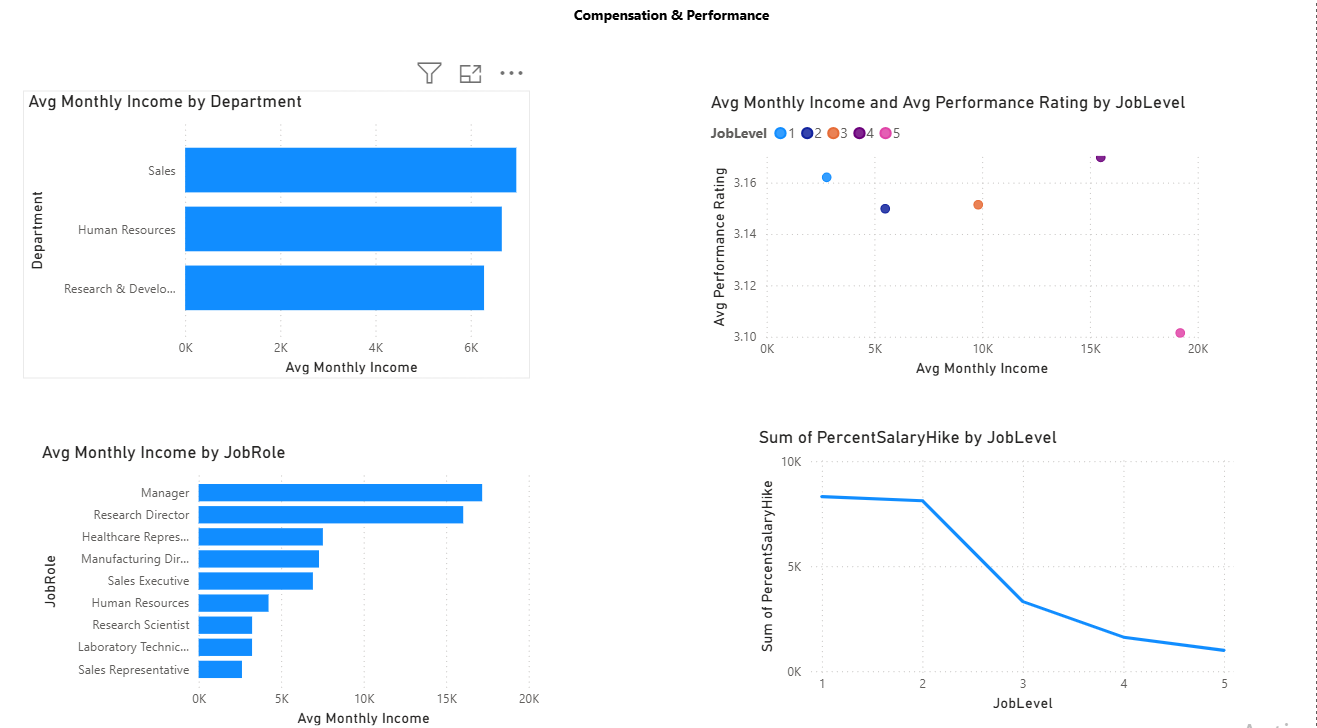

The page's visual inventory and layout, read from the dashboard file:
{"tool":"powerbi","page":{"name":"Compensation & Performance","canvas":[1280,720],"ordinal":2},"visuals":[{"type":"clusteredBarChart","fields":{"Category":["Job_Info.Department"],"Y":["Compensation.Avg Monthly Income"]},"box":[25.9,100.4,492.2,280.1],"z":0},{"type":"barChart","fields":{"Y":["Compensation.Avg Monthly Income"],"Category":["Job_Info.JobRole"]},"box":[38.9,440.4,492.2,280.1],"z":1000},{"type":"scatterChart","fields":{"X":["Compensation.Avg Monthly Income"],"Y":["Performance.Avg Performance Rating"],"Series":["Job_Info.JobLevel"]},"box":[688.2,102,492.2,280.1],"z":2000},{"type":"lineChart","fields":{"Y":["Sum(Compensation.PercentSalaryHike)"],"Category":["Job_Info.JobLevel"]},"box":[735.1,425.9,471.2,280.1],"z":3000},{"type":"textbox","box":[540.8,498.7,194.3,100.4],"z":4000},{"type":"textbox","box":[377.3,11.3,557,53.4],"z":5000}]}

Visuals, with their boxes in screenshot pixels (x1, y1, x2, y2), scaled from the page's 1280x720 canvas onto the 1317x728 screenshot:
clusteredBarChart - Job_Info.Department x Compensation.Avg Monthly Income: pyautogui.locateOnScreen(27, 102, 533, 385)
barChart - Compensation.Avg Monthly Income x Job_Info.JobRole: pyautogui.locateOnScreen(40, 445, 546, 727)
scatterChart - Compensation.Avg Monthly Income x Performance.Avg Performance Rating: pyautogui.locateOnScreen(708, 103, 1215, 386)
lineChart - Sum(Compensation.PercentSalaryHike) x Job_Info.JobLevel: pyautogui.locateOnScreen(756, 431, 1241, 714)
textbox: pyautogui.locateOnScreen(556, 504, 756, 606)
textbox: pyautogui.locateOnScreen(388, 11, 961, 65)
